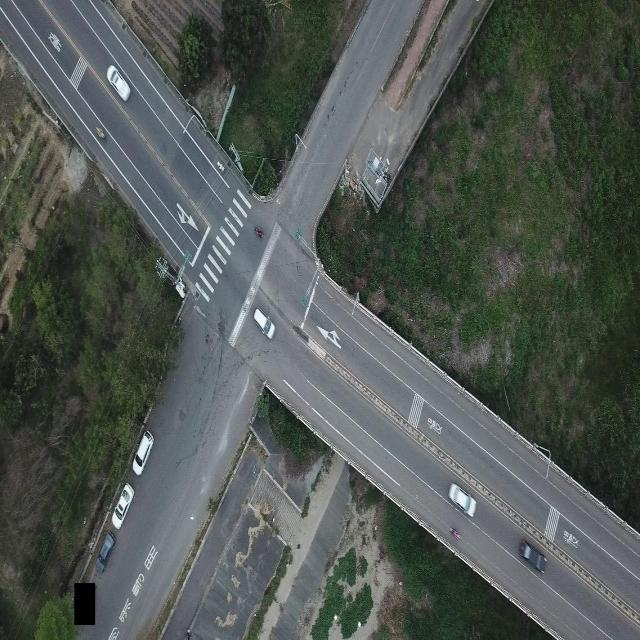bike: (93, 120, 108, 144), (449, 522, 463, 544), (254, 225, 269, 243)
car: (519, 537, 547, 574), (132, 430, 154, 474), (112, 482, 133, 528), (449, 482, 476, 517), (107, 65, 132, 101), (98, 531, 116, 572), (253, 307, 276, 339)
